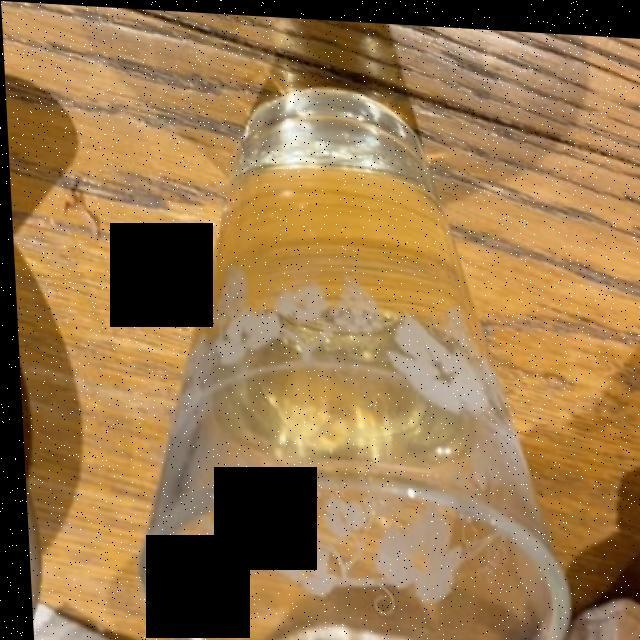wine: (183, 156, 489, 460)
